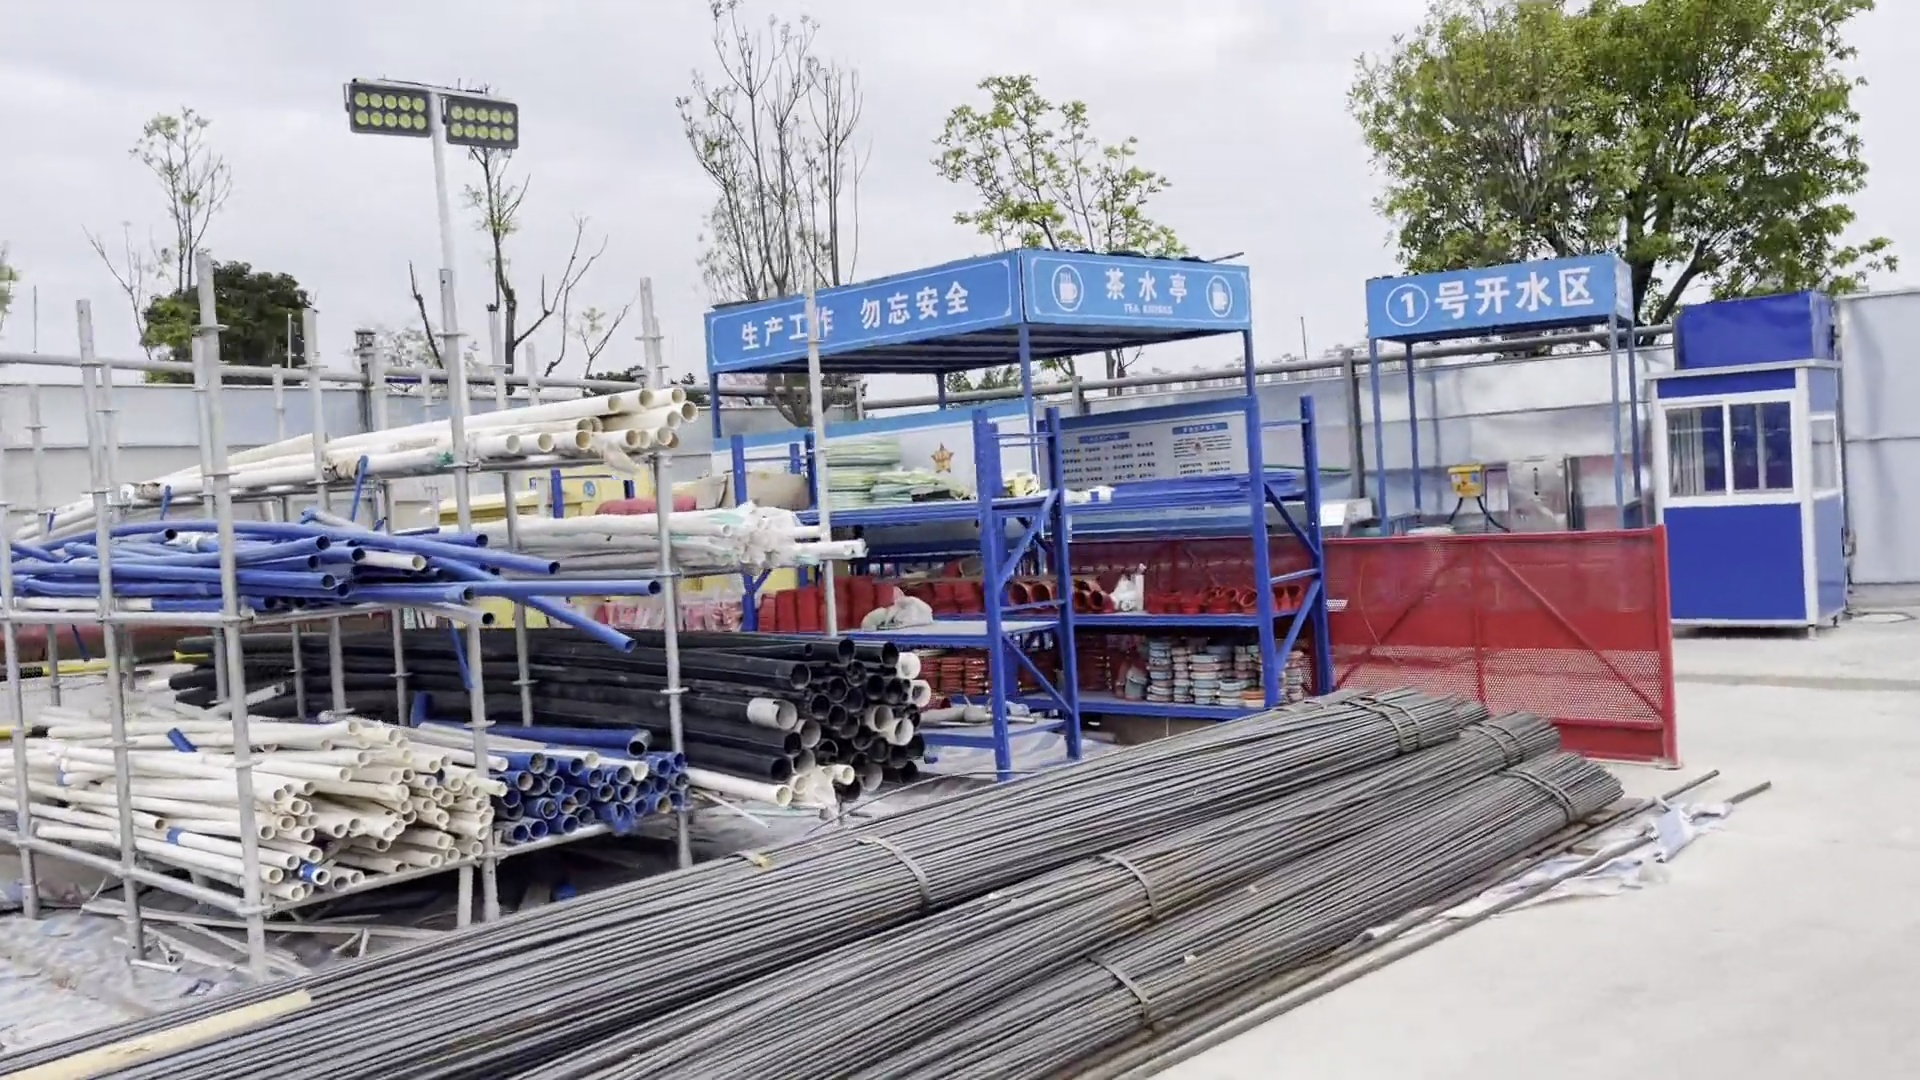ebox: (1445, 464, 1487, 504)
fence: (1319, 522, 1695, 761)
rebar: (1007, 688, 1658, 1080), (353, 778, 1054, 1080), (3, 926, 392, 1080)
slogan: (676, 227, 1269, 377), (1361, 251, 1652, 357), (1046, 407, 1265, 500), (852, 415, 1056, 492)
